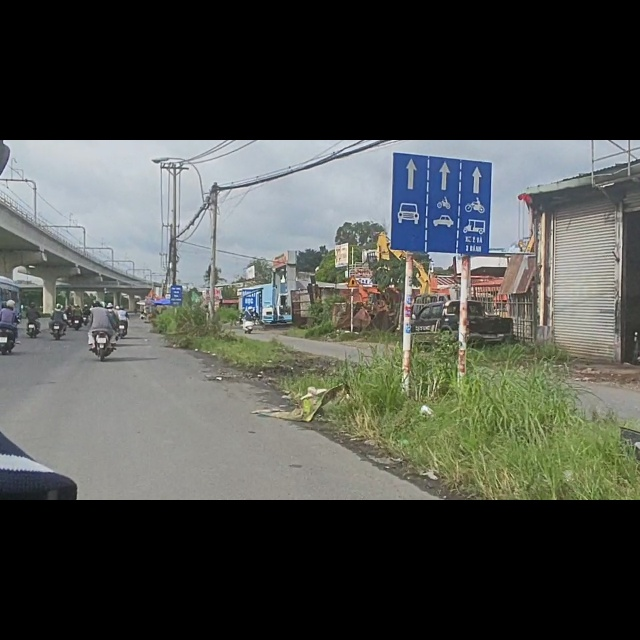bien_chi_dan: (387, 17, 491, 206), (343, 241, 362, 263)
